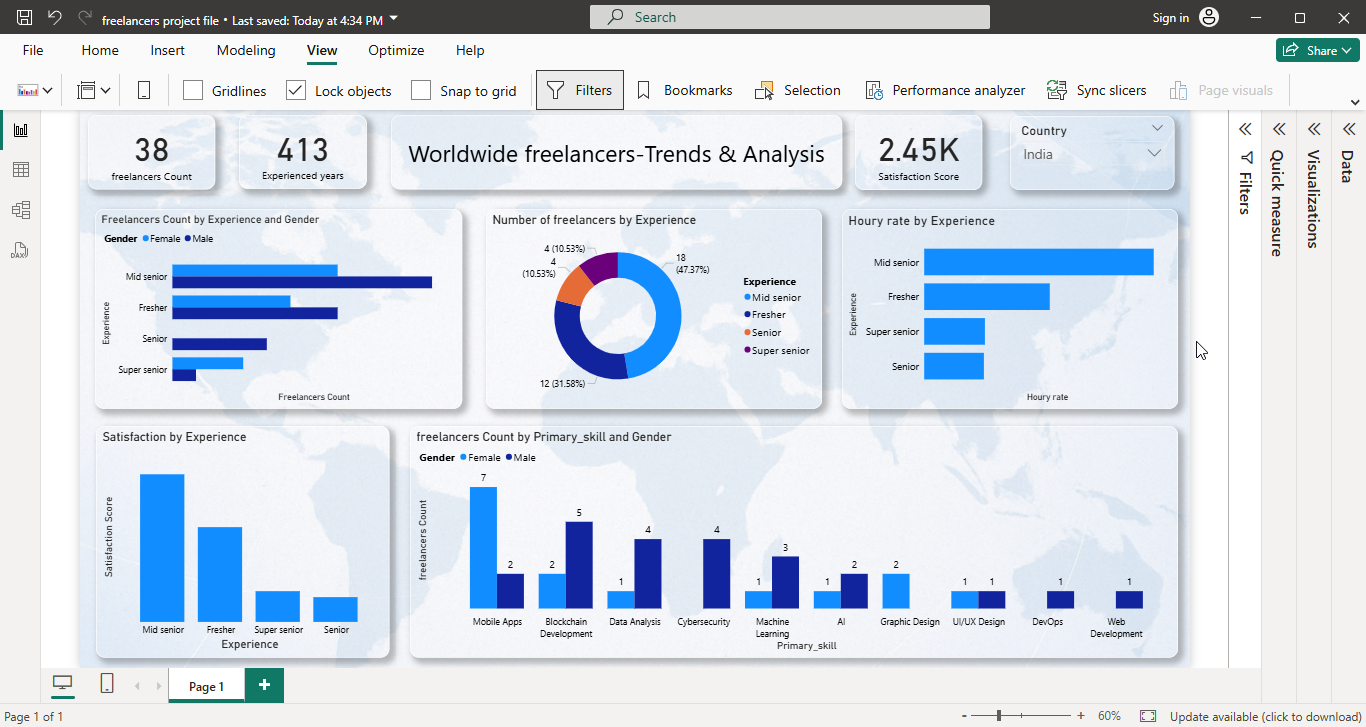

The dashboard page shown, as its layout file describes it:
{"tool":"powerbi","page":{"name":"Page 1","canvas":[1850,930],"ordinal":0},"visuals":[{"type":"donutChart","title":"Number of freelancers by Experience","fields":{"Category":["Table 1 (global_freelancers_raw).Experience(years) (groups)"],"Y":["CountNonNull(Table 1 (global_freelancers_raw).freelancer_ID)"]},"box":[676.4,165.7,559.7,333.1],"z":0},{"type":"columnChart","title":"Satisfaction by Experience","fields":{"Category":["Table 1 (global_freelancers_raw).Experience(years) (groups)"],"Y":["Sum(Table 1 (global_freelancers_raw).Satisfaction)"]},"box":[27.1,525.9,488.7,385.5],"z":1000},{"type":"clusteredColumnChart","fields":{"Category":["Table 1 (global_freelancers_raw).Primary_skill"],"Series":["Table 1 (global_freelancers_raw). Gender"],"Y":["CountNonNull(Table 1 (global_freelancers_raw).freelancer_ID)"]},"box":[549.5,525.9,1280,385.5],"z":2000},{"type":"barChart","fields":{"Category":["Table 1 (global_freelancers_raw).Experience(years) (groups)"],"Y":["Sum(Table 1 (global_freelancers_raw).Houry rate)"]},"box":[1269.9,165.7,559.7,333.1],"z":3000},{"type":"clusteredBarChart","title":"Freelancers Count by Experience and Gender","fields":{"Category":["Table 1 (global_freelancers_raw).Experience(years) (groups)"],"Y":["CountNonNull(Table 1 (global_freelancers_raw).freelancer_ID)"],"Series":["Table 1 (global_freelancers_raw). Gender"]},"box":[25.4,165.7,612.1,333.1],"z":4000},{"type":"card","fields":{"Values":["CountNonNull(Table 1 (global_freelancers_raw).freelancer_ID)"]},"box":[26.7,8.9,159.9,122.6],"z":5000},{"type":"card","fields":{"Values":["Sum(Table 1 (global_freelancers_raw).Experience(years))"]},"box":[207.9,10.7,284.3,122.6],"z":6000},{"type":"slicer","fields":{"Values":["Table 1 (global_freelancers_raw).Country"]},"box":[1550,10,273.3,123.3],"z":7000},{"type":"card","fields":{"Values":["Sum(Table 1 (global_freelancers_raw).Satisfaction)"]},"box":[1292.3,8.3,212.3,124.9],"z":8000},{"type":"shape","box":[518.9,8.9,751.7,124.4],"z":9000}]}

Visuals, with their boxes on the page's 1850x930 design canvas (x1, y1, x2, y2). These are canvas units, not pixel positions in the 1366x727 screenshot, which may show the page scaled, cropped or inside an application window:
"Number of freelancers by Experience" donutChart: BBox(676, 166, 1236, 499)
"Satisfaction by Experience" columnChart: BBox(27, 526, 516, 911)
clusteredColumnChart - Table 1 (global_freelancers_raw).Primary_skill x Table 1 (global_freelancers_raw). Gender: BBox(550, 526, 1830, 911)
barChart - Table 1 (global_freelancers_raw).Experience(years) (groups) x Sum(Table 1 (global_freelancers_raw).Houry rate): BBox(1270, 166, 1830, 499)
"Freelancers Count by Experience and Gender" clusteredBarChart: BBox(25, 166, 638, 499)
card - CountNonNull(Table 1 (global_freelancers_raw).freelancer_ID): BBox(27, 9, 187, 132)
card - Sum(Table 1 (global_freelancers_raw).Experience(years)): BBox(208, 11, 492, 133)
slicer - Table 1 (global_freelancers_raw).Country: BBox(1550, 10, 1823, 133)
card - Sum(Table 1 (global_freelancers_raw).Satisfaction): BBox(1292, 8, 1505, 133)
shape: BBox(519, 9, 1271, 133)
